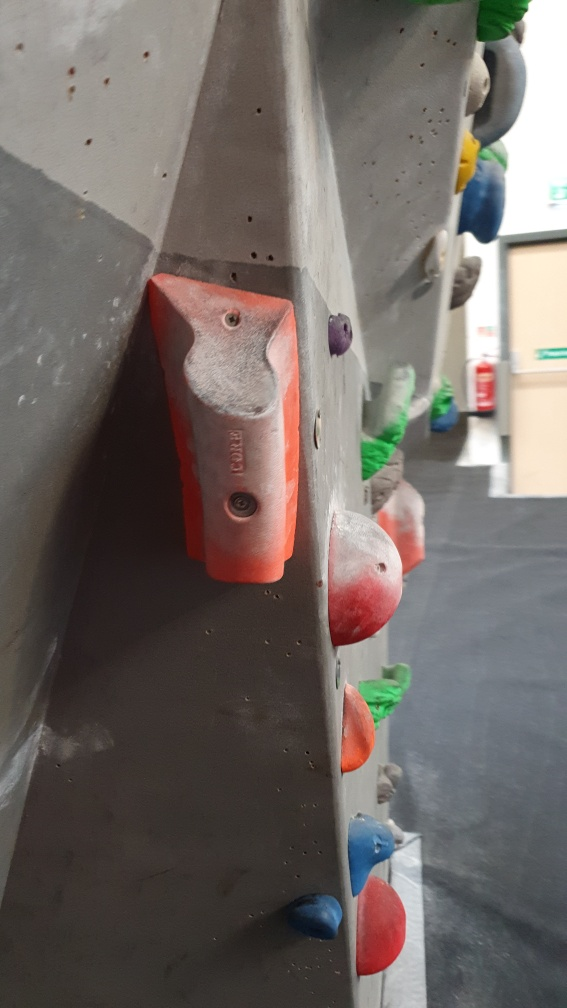Pinch: (145, 276, 303, 591)
Sloper: (328, 507, 409, 643), (353, 870, 408, 979)
